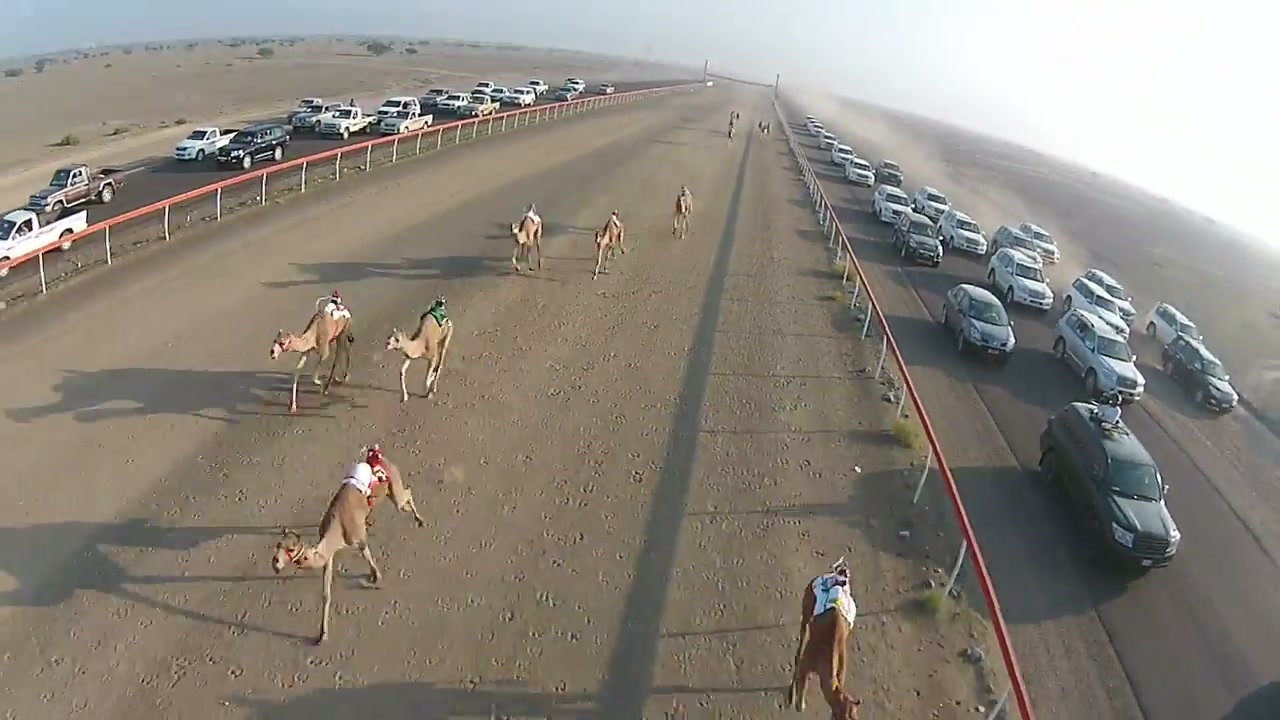animal_footprint: (480, 282, 671, 706)
